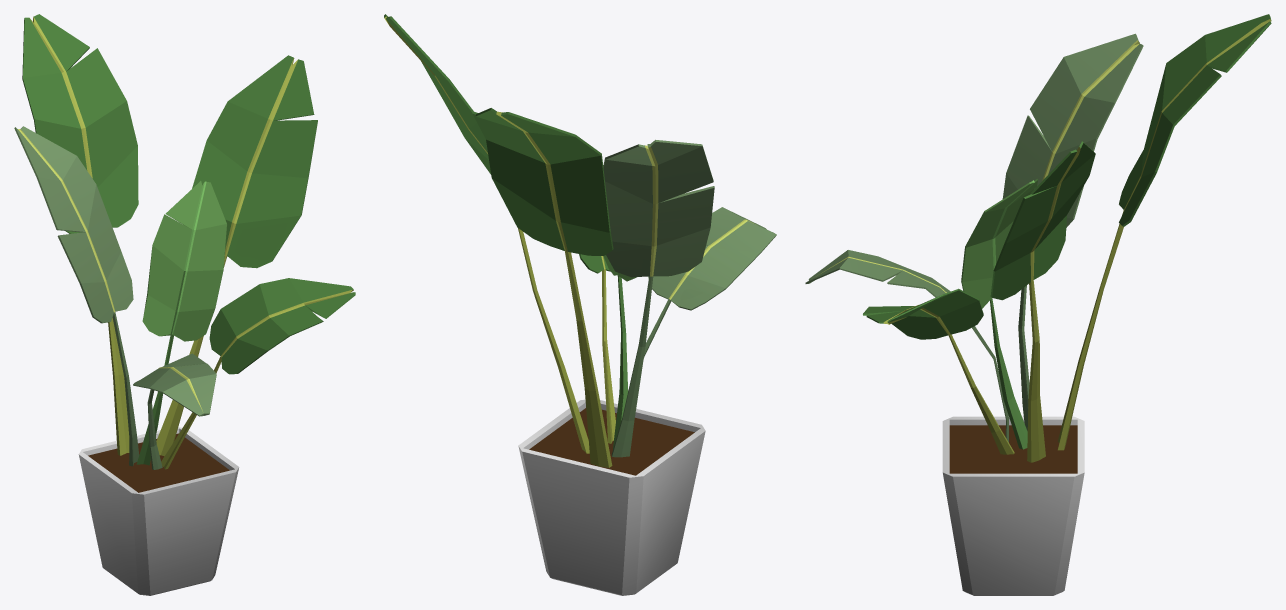
File: Flowerbed_04.fbx
3 renders of one model, left to right at view 1: azimuth 30°, elevation 25°; view 2: azimuth 150°, elevation 25°; view 3: azimuth 270°, elevation 25°, orthographic. The views are drawn at different scales.
Parts seen in each view (by area): view 1: Flowerbed_04; view 2: Flowerbed_04; view 3: Flowerbed_04.
Boxes of the visible parts, x1,y1,x2,y2 form: Flowerbed_04: [14, 14, 355, 595]; Flowerbed_04: [384, 14, 776, 595]; Flowerbed_04: [805, 14, 1271, 595].
Bounding box in the file's own units: 165 × 279 × 215.
